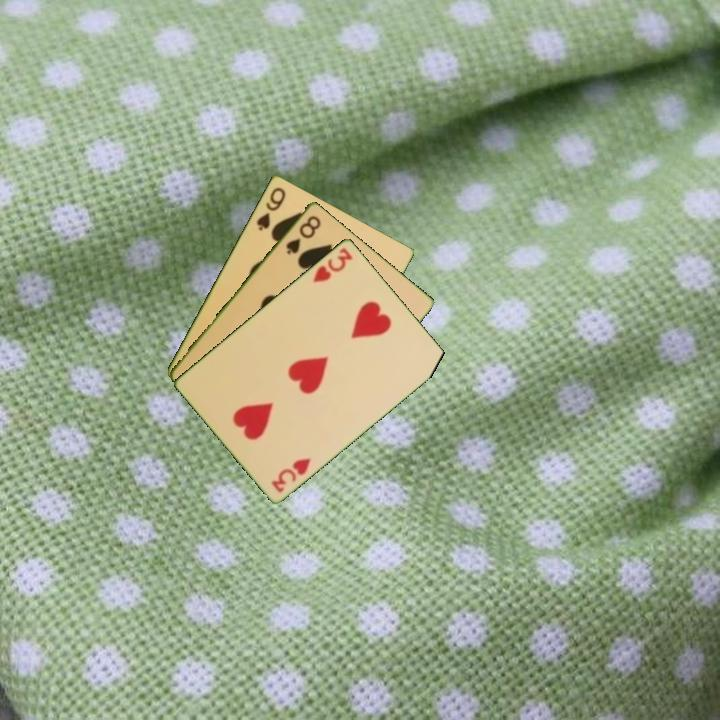3h: (309, 243, 355, 285), (268, 454, 314, 495)
8s: (282, 211, 324, 257)
9s: (253, 183, 288, 233)
